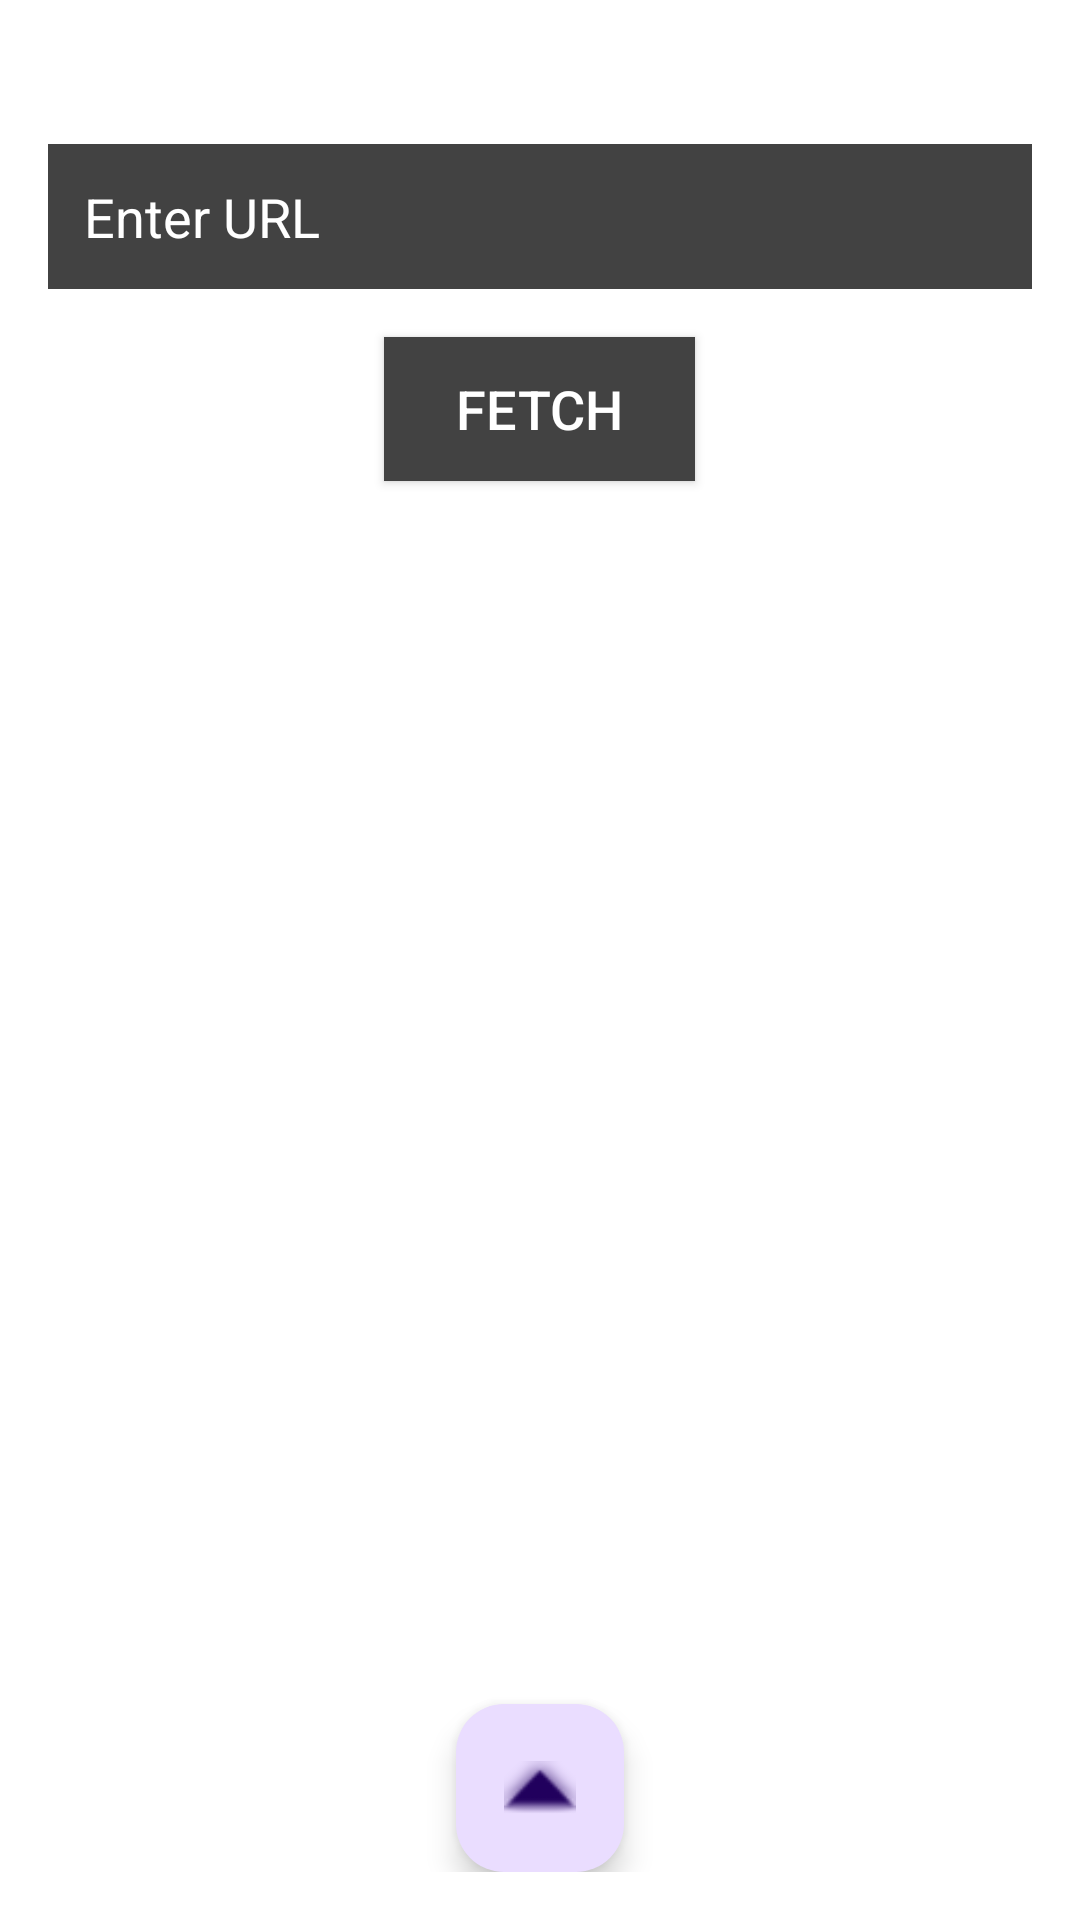

Screen size 1080w x 1920h. Icon name, then its center in pixels as (x=x, y=y):
Scroll to Top: (x=540, y=1788)
